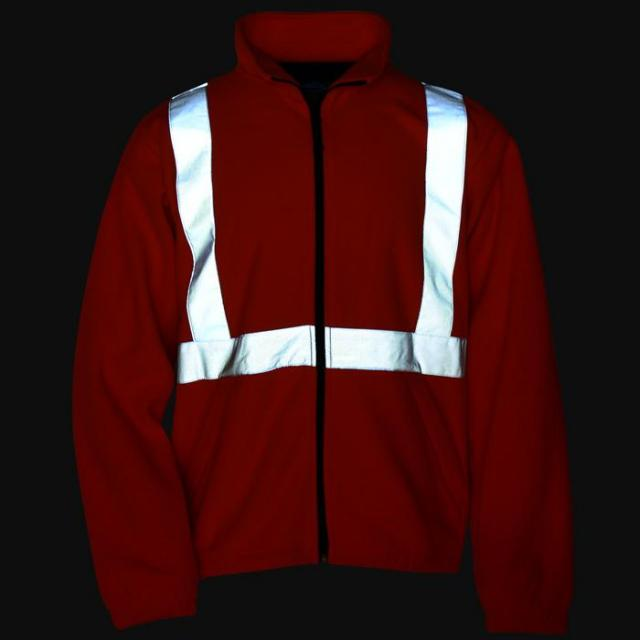Reflective-Jacket: (46, 13, 622, 636)
